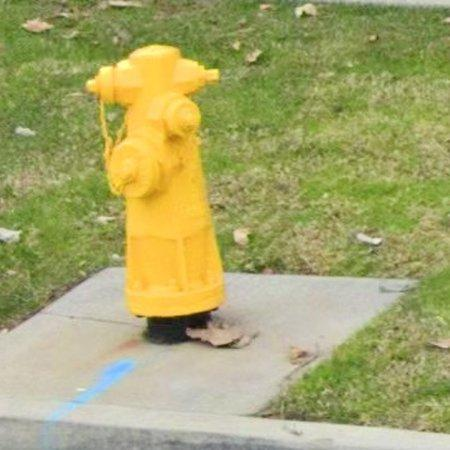a fire hydrant: (86, 45, 225, 345)
